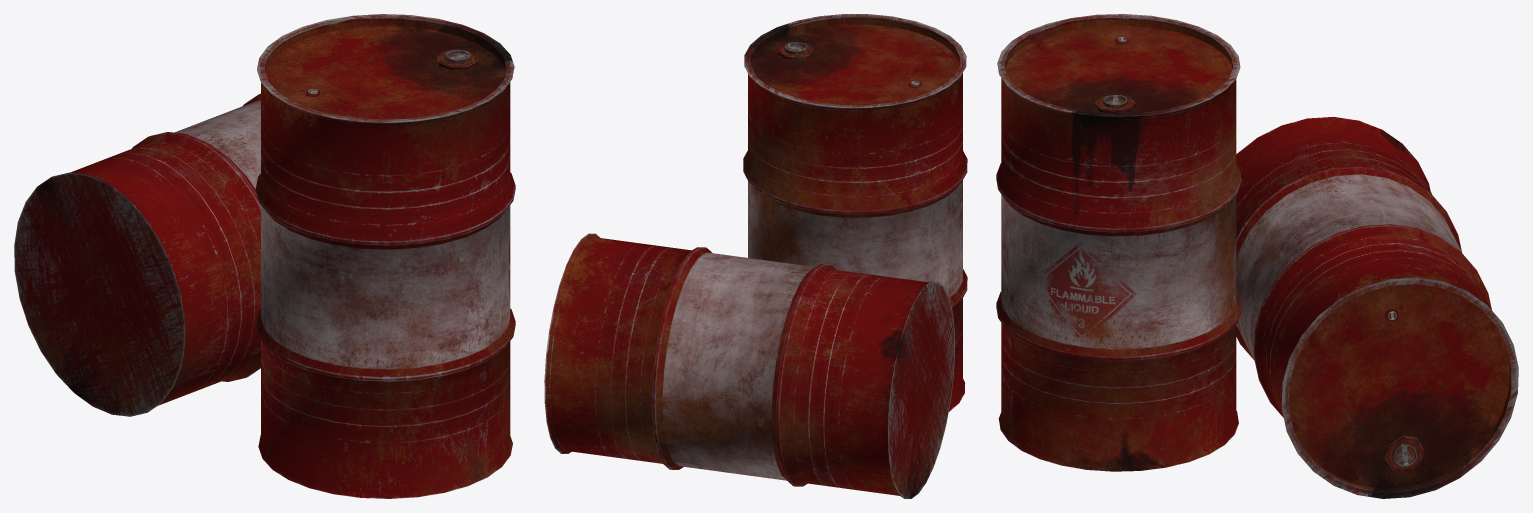
The model's file is oil.glb.
3 renders of one model, left to right at view 1: azimuth 30°, elevation 25°; view 2: azimuth 150°, elevation 25°; view 3: azimuth 270°, elevation 25°, orthographic. The views are drawn at different scales.
Visible parts, largest first — view 1: barrel_oil_barrel_oil_0; view 2: barrel_oil_barrel_oil_0; view 3: barrel_oil_barrel_oil_0.
Boxes of the visible parts, bbox=[...] form: barrel_oil_barrel_oil_0: bbox=[14, 14, 515, 498]; barrel_oil_barrel_oil_0: bbox=[544, 14, 967, 498]; barrel_oil_barrel_oil_0: bbox=[996, 14, 1518, 498].
Size of the model in its own units: 0.997 by 0.9 by 1.2.
Materials: 1 (1 with a texture image).
